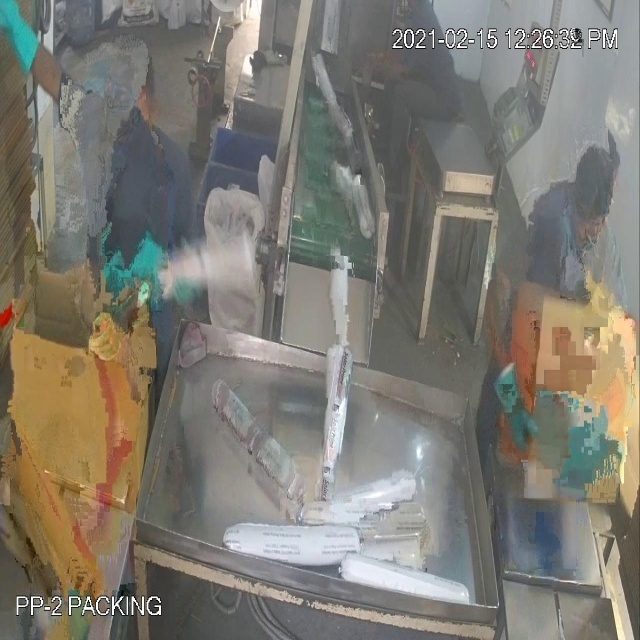Sin_guantes: (358, 43, 413, 88)
